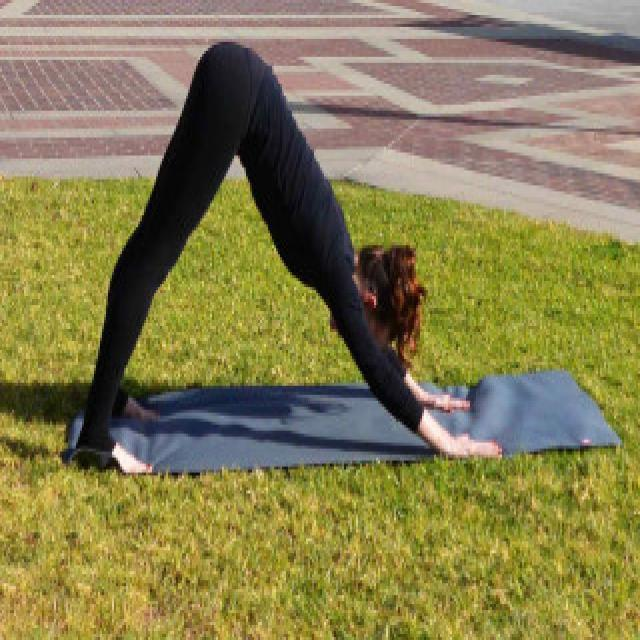yoga-pose downward: (74, 41, 510, 480)
